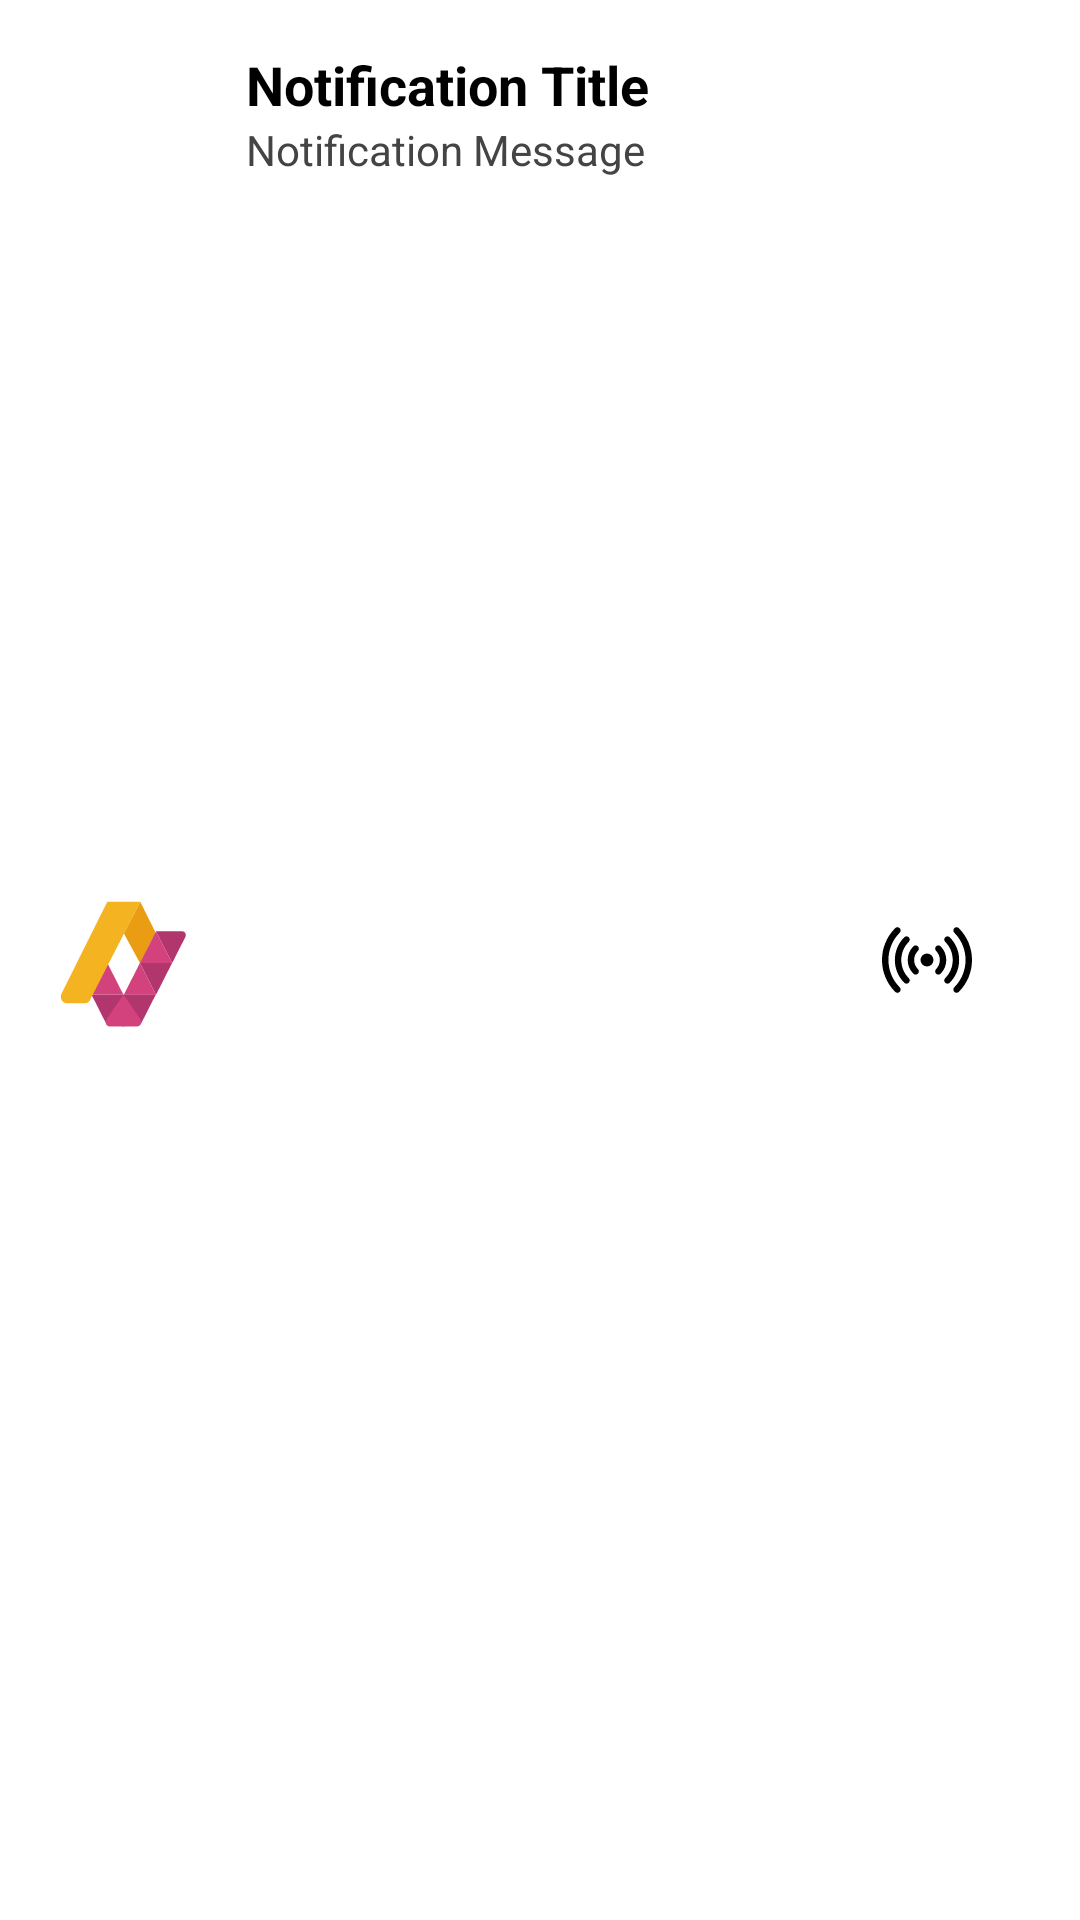

Icons on this 1080×1920 Android screen, each with its box as (x1, y1, x2, y2):
sinal: (882, 927, 972, 993)
